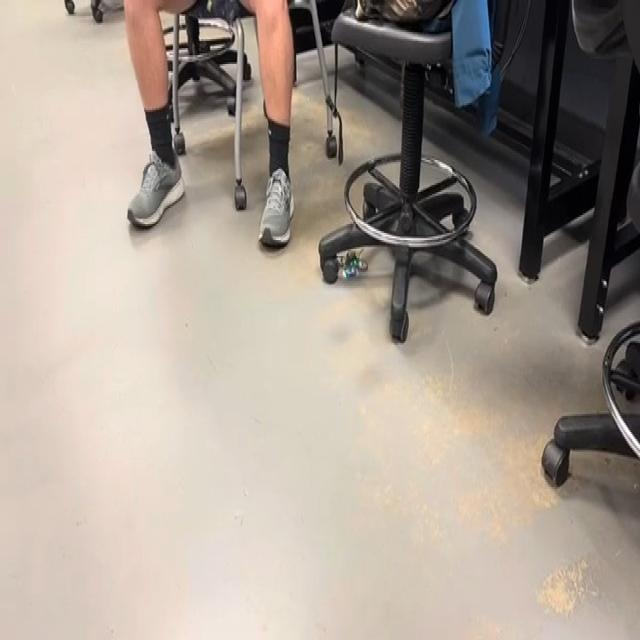drone: (324, 226, 370, 290)
